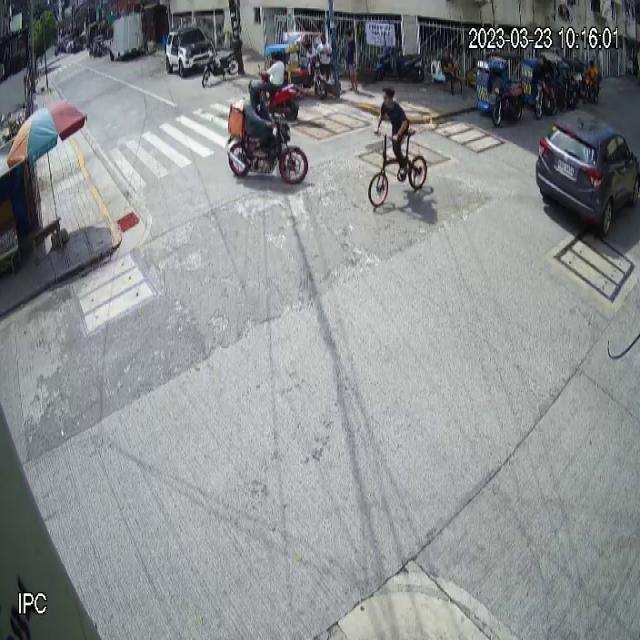Car: (534, 102, 640, 241)
Motorcycle: (224, 117, 310, 186)
Tricycle: (476, 50, 525, 128)
